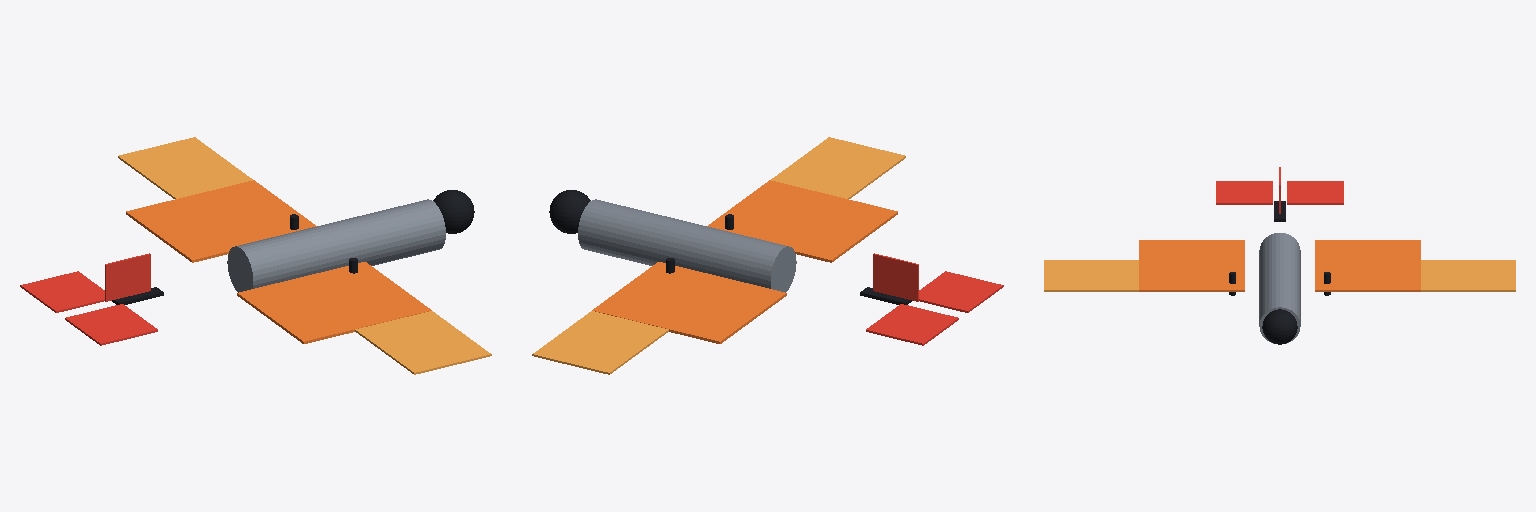
robot.urdf — fwav_15dof:
<?xml version="1.0"?>
<!-- ============================================================
  扑翼虚拟样机 · 15自由度 (FWAV virtual prototype)
  坐标系: REP-103  x前 y左 z上
  自由度账目: 机体浮动6 + 每翼3(拍动/扭转/折叠)×2 + 尾翼3(偏航1+差动俯仰2) = 15
  关节命名(驱动脚本按此接线):
    flap_L / flap_R      拍动, 轴=x, 左右正方向对称(驱动脚本自己带符号)
    twist_L / twist_R    扭转(攻角), 轴=展向y
    fold_L / fold_R      折叠, 轴=翼面法向z, L限位[0,1.2], R限位[-1.2,0]
    tail_yaw             尾整体偏航, 轴=z
    tail_L / tail_R      尾左右舵面, 轴=y; 同向=升降舵, 差动=滚转
  惯量=几何法重算(体素合成+平行轴转移至声明质心) 2026-09-30 I-002, 工具 tools/inertia_geometric_recalc.py, 运行时覆写已删除
============================================================= -->
<robot name="fwav_15dof">

  <material name="body_gray"><color rgba="0.55 0.58 0.62 1"/></material>
  <material name="wing_amber"><color rgba="1.0 0.55 0.25 1"/></material>
  <material name="wing_amber2"><color rgba="1.0 0.70 0.35 1"/></material>
  <material name="tail_red"><color rgba="0.95 0.30 0.25 1"/></material>
  <material name="dark"><color rgba="0.15 0.16 0.18 1"/></material>

  <!-- ============ 机体 ============ -->
  <link name="base_link">
    <inertial><mass value="0.135"/><origin xyz="0 0 0"/>
      <inertia ixx="8.138066e-05" iyy="1.496858e-03" izz="1.495123e-03" ixy="0.000000e+00" ixz="-2.890381e-05" iyz="0.000000e+00"/></inertial>
    <visual>
      <origin xyz="0.02 0 0" rpy="0 1.5708 0"/>
      <geometry><cylinder radius="0.035" length="0.30"/></geometry>
      <material name="body_gray"/>
    </visual>
    <visual>
      <origin xyz="0.20 0 0.012"/>
      <geometry><sphere radius="0.030"/></geometry>
      <material name="dark"/>
    </visual>
    <collision>
      <origin xyz="0.02 0 0" rpy="0 1.5708 0"/>
      <geometry><cylinder radius="0.035" length="0.30"/></geometry>
    </collision>
  </link>

  <!-- ============ 左翼 (y+侧) ============ -->
  <joint name="flap_L" type="revolute">
    <parent link="base_link"/>
    <child link="flapconn_L"/>
    <origin xyz="0 0.06 0"/>
    <axis xyz="1 0 0"/>
    <limit lower="-1.4" upper="1.4" effort="5" velocity="30"/>
    <dynamics damping="0.01"/>
  </joint>
  <link name="flapconn_L">
    <inertial><mass value="0.006"/><origin xyz="0 0.01 0"/>
      <inertia ixx="1.454000e-06" iyy="8.540000e-07" izz="7.080000e-07" ixy="0.000000e+00" ixz="0.000000e+00" iyz="0.000000e+00"/></inertial>
    <visual><origin xyz="0 0.02 0"/><geometry><cylinder radius="0.006" length="0.04"/></geometry><material name="dark"/></visual>
  </link>

  <joint name="twist_L" type="revolute">
    <parent link="flapconn_L"/>
    <child link="innerwing_L"/>
    <origin xyz="0 0 0"/>
    <axis xyz="0 1 0"/>
    <limit lower="-1.0" upper="1.0" effort="3" velocity="30"/>
    <dynamics damping="0.01"/>
  </joint>
  <link name="innerwing_L">
    <inertial><mass value="0.012"/><origin xyz="-0.05 0.09 0"/>
      <inertia ixx="3.241600e-05" iyy="4.481600e-05" izz="7.720000e-05" ixy="0.000000e+00" ixz="0.000000e+00" iyz="0.000000e+00"/></inertial>
    <visual>
      <origin xyz="-0.07 0.09 0"/>
      <geometry><box size="0.20 0.18 0.004"/></geometry>
      <material name="wing_amber"/>
    </visual>
    <collision><origin xyz="-0.07 0.09 0"/><geometry><box size="0.20 0.18 0.004"/></geometry></collision>
  </link>

  <joint name="fold_L" type="revolute">
    <parent link="innerwing_L"/>
    <child link="outerwing_L"/>
    <origin xyz="0 0.18 0"/>
    <axis xyz="0 0 1"/>
    <limit lower="0" upper="1.2" effort="2" velocity="30"/>
    <dynamics damping="0.01"/>
  </joint>
  <link name="outerwing_L">
    <inertial><mass value="0.009"/><origin xyz="-0.03 0.08 0"/>
      <inertia ixx="1.920675e-05" iyy="1.080675e-05" izz="3.000000e-05" ixy="0.000000e+00" ixz="0.000000e+00" iyz="0.000000e+00"/></inertial>
    <visual>
      <origin xyz="-0.03 0.08 0"/>
      <geometry><box size="0.12 0.16 0.003"/></geometry>
      <material name="wing_amber2"/>
    </visual>
    <collision><origin xyz="-0.03 0.08 0"/><geometry><box size="0.12 0.16 0.003"/></geometry></collision>
  </link>

  <!-- ============ 右翼 (y-侧, 镜像) ============ -->
  <joint name="flap_R" type="revolute">
    <parent link="base_link"/>
    <child link="flapconn_R"/>
    <origin xyz="0 -0.06 0"/>
    <axis xyz="1 0 0"/>
    <limit lower="-1.4" upper="1.4" effort="5" velocity="30"/>
    <dynamics damping="0.01"/>
  </joint>
  <link name="flapconn_R">
    <inertial><mass value="0.006"/><origin xyz="0 -0.01 0"/>
      <inertia ixx="1.454000e-06" iyy="8.540000e-07" izz="7.080000e-07" ixy="0.000000e+00" ixz="0.000000e+00" iyz="0.000000e+00"/></inertial>
    <visual><origin xyz="0 -0.02 0"/><geometry><cylinder radius="0.006" length="0.04"/></geometry><material name="dark"/></visual>
  </link>

  <joint name="twist_R" type="revolute">
    <parent link="flapconn_R"/>
    <child link="innerwing_R"/>
    <origin xyz="0 0 0"/>
    <axis xyz="0 1 0"/>
    <limit lower="-1.0" upper="1.0" effort="3" velocity="30"/>
    <dynamics damping="0.01"/>
  </joint>
  <link name="innerwing_R">
    <inertial><mass value="0.012"/><origin xyz="-0.05 -0.09 0"/>
      <inertia ixx="3.241600e-05" iyy="4.481600e-05" izz="7.720000e-05" ixy="0.000000e+00" ixz="0.000000e+00" iyz="0.000000e+00"/></inertial>
    <visual>
      <origin xyz="-0.07 -0.09 0"/>
      <geometry><box size="0.20 0.18 0.004"/></geometry>
      <material name="wing_amber"/>
    </visual>
    <collision><origin xyz="-0.07 -0.09 0"/><geometry><box size="0.20 0.18 0.004"/></geometry></collision>
  </link>

  <joint name="fold_R" type="revolute">
    <parent link="innerwing_R"/>
    <child link="outerwing_R"/>
    <origin xyz="0 -0.18 0"/>
    <axis xyz="0 0 1"/>
    <limit lower="-1.2" upper="0" effort="2" velocity="30"/>
    <dynamics damping="0.01"/>
  </joint>
  <link name="outerwing_R">
    <inertial><mass value="0.009"/><origin xyz="-0.03 -0.08 0"/>
      <inertia ixx="1.920675e-05" iyy="1.080675e-05" izz="3.000000e-05" ixy="0.000000e+00" ixz="0.000000e+00" iyz="0.000000e+00"/></inertial>
    <visual>
      <origin xyz="-0.03 -0.08 0"/>
      <geometry><box size="0.12 0.16 0.003"/></geometry>
      <material name="wing_amber2"/>
    </visual>
    <collision><origin xyz="-0.03 -0.08 0"/><geometry><box size="0.12 0.16 0.003"/></geometry></collision>
  </link>

  <!-- ============ 尾翼: 偏航基座 + 左右差动舵面 ============ -->
  <joint name="tail_yaw" type="revolute">
    <parent link="base_link"/>
    <child link="tail_base"/>
    <origin xyz="-0.26 0 0"/>
    <axis xyz="0 0 1"/>
    <limit lower="-0.6" upper="0.6" effort="1" velocity="15"/>
    <dynamics damping="0.01"/>
  </joint>
  <link name="tail_base">
    <inertial><mass value="0.01"/><origin xyz="-0.03 0 0"/>
      <inertia ixx="8.083742e-06" iyy="1.343756e-05" izz="5.614733e-06" ixy="0.000000e+00" ixz="2.988679e-06" iyz="0.000000e+00"/></inertial>
    <visual><origin xyz="-0.03 0 0"/><geometry><box size="0.07 0.02 0.005"/></geometry><material name="dark"/></visual>
    <visual><origin xyz="-0.045 0 0.032"/><geometry><box size="0.07 0.003 0.055"/></geometry><material name="tail_red"/></visual>
  </link>

  <joint name="tail_L" type="revolute">
    <parent link="tail_base"/>
    <child link="tailpanel_L"/>
    <origin xyz="-0.06 0.012 0"/>
    <axis xyz="0 1 0"/>
    <limit lower="-0.5" upper="0.5" effort="1" velocity="15"/>
    <dynamics damping="0.01"/>
  </joint>
  <link name="tailpanel_L">
    <inertial><mass value="0.008"/><origin xyz="-0.045 0.045 0"/>
      <inertia ixx="6.222000e-06" iyy="5.406000e-06" izz="1.161600e-05" ixy="0.000000e+00" ixz="0.000000e+00" iyz="0.000000e+00"/></inertial>
    <visual>
      <origin xyz="-0.045 0.048 0"/>
      <geometry><box size="0.09 0.096 0.003"/></geometry>
      <material name="tail_red"/>
    </visual>
    <collision><origin xyz="-0.045 0.048 0"/><geometry><box size="0.09 0.096 0.003"/></geometry></collision>
  </link>

  <joint name="tail_R" type="revolute">
    <parent link="tail_base"/>
    <child link="tailpanel_R"/>
    <origin xyz="-0.06 -0.012 0"/>
    <axis xyz="0 1 0"/>
    <limit lower="-0.5" upper="0.5" effort="1" velocity="15"/>
    <dynamics damping="0.01"/>
  </joint>
  <link name="tailpanel_R">
    <inertial><mass value="0.008"/><origin xyz="-0.045 -0.045 0"/>
      <inertia ixx="6.222000e-06" iyy="5.406000e-06" izz="1.161600e-05" ixy="0.000000e+00" ixz="0.000000e+00" iyz="0.000000e+00"/></inertial>
    <visual>
      <origin xyz="-0.045 -0.048 0"/>
      <geometry><box size="0.09 0.096 0.003"/></geometry>
      <material name="tail_red"/>
    </visual>
    <collision><origin xyz="-0.045 -0.048 0"/><geometry><box size="0.09 0.096 0.003"/></geometry></collision>
  </link>

</robot>

--- What the picture shows (computed from the rendered views, not written in the file) ---
3 views of the same robot in one strip: view 1: azimuth 30°, elevation 25°; view 2: azimuth 150°, elevation 25°; view 3: azimuth 270°, elevation 25° (orthographic).
Model fwav_15dof with 10 links and 9 joints (9 revolute), rooted at base_link, posed all joints at 0.
Visible links, largest first — view 1: base_link, innerwing_R, innerwing_L, outerwing_R, outerwing_L, tailpanel_R, tailpanel_L, tail_base; view 2: base_link, innerwing_L, innerwing_R, outerwing_L, outerwing_R, tailpanel_L, tailpanel_R, tail_base; view 3: innerwing_L, innerwing_R, base_link, outerwing_L, outerwing_R, tailpanel_L, tailpanel_R.
Boxes of the visible links, <box> form: base_link: <box>227,190,474,292</box>; innerwing_R: <box>237,262,431,343</box>; innerwing_L: <box>126,180,316,262</box>; outerwing_R: <box>355,311,491,374</box>; outerwing_L: <box>118,137,252,198</box>; tailpanel_R: <box>65,304,157,345</box>; tailpanel_L: <box>20,271,104,312</box>; tail_base: <box>105,253,163,304</box>; base_link: <box>549,190,796,292</box>; innerwing_L: <box>592,262,786,343</box>; innerwing_R: <box>707,180,897,262</box>; outerwing_L: <box>532,311,668,374</box>; outerwing_R: <box>771,137,905,198</box>; tailpanel_L: <box>866,304,958,345</box>; tailpanel_R: <box>919,271,1003,312</box>; tail_base: <box>860,253,918,304</box>; innerwing_L: <box>1315,240,1420,291</box>; innerwing_R: <box>1139,240,1244,291</box>; base_link: <box>1259,233,1300,344</box>; outerwing_L: <box>1421,260,1515,291</box>; outerwing_R: <box>1044,260,1138,291</box>; tailpanel_L: <box>1287,181,1343,204</box>; tailpanel_R: <box>1216,181,1272,204</box>.
Size in the robot's own frame: 0.64 by 0.8 by 0.0945 metres.
Geometry: primitives only (box / cylinder / sphere), no mesh files.
